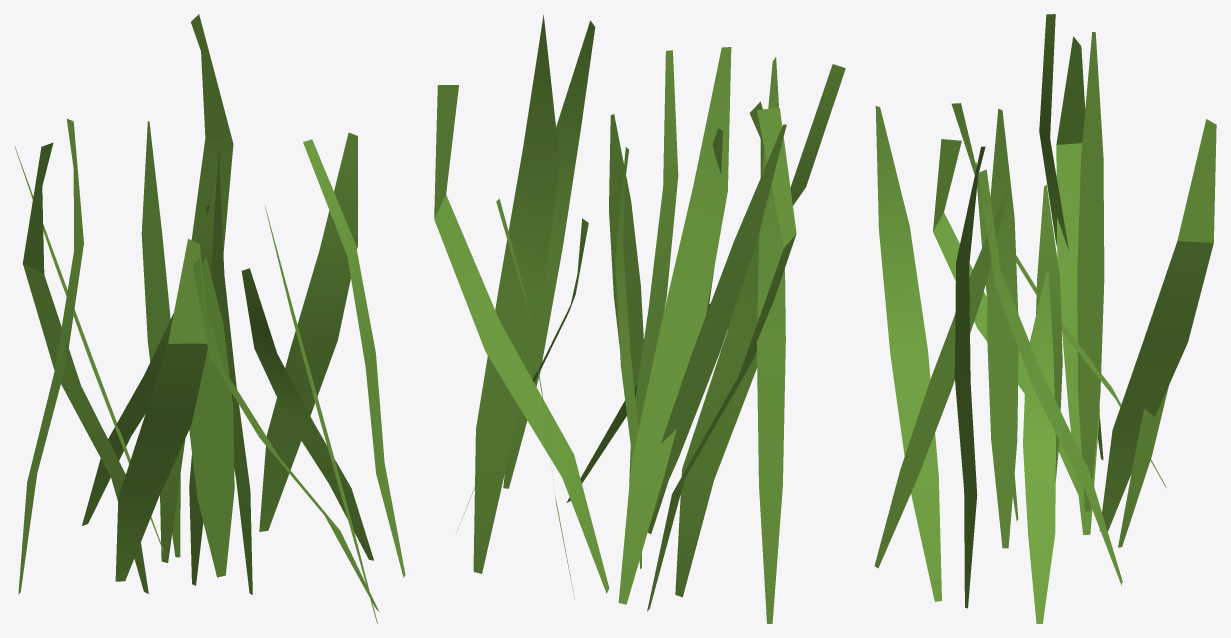
Rendered from grass1.fbx.
3 renders of one model, left to right at view 1: azimuth 30°, elevation 25°; view 2: azimuth 150°, elevation 25°; view 3: azimuth 270°, elevation 25°, orthographic. The views are drawn at different scales.
Parts seen in each view (by area): view 1: grass1; view 2: grass1; view 3: grass1.
Part boxes in pixels (x1,y1,x2,y2): grass1: [14, 14, 405, 623]; grass1: [434, 15, 845, 623]; grass1: [874, 14, 1216, 623].
Size of the model in its own units: 155 by 229 by 149.
